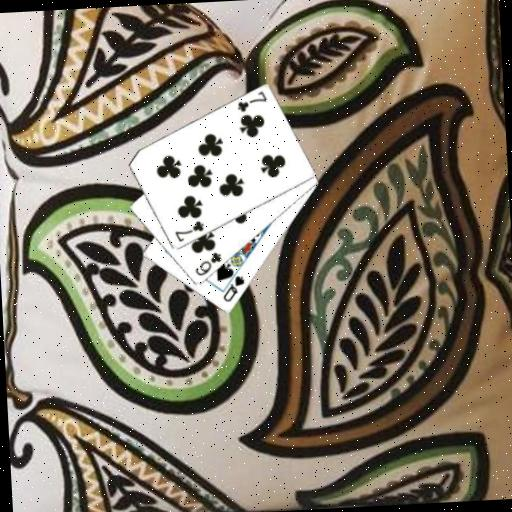6C: (192, 249, 225, 278)
7C: (171, 217, 206, 244), (233, 88, 269, 114)
QS: (218, 273, 247, 305)
